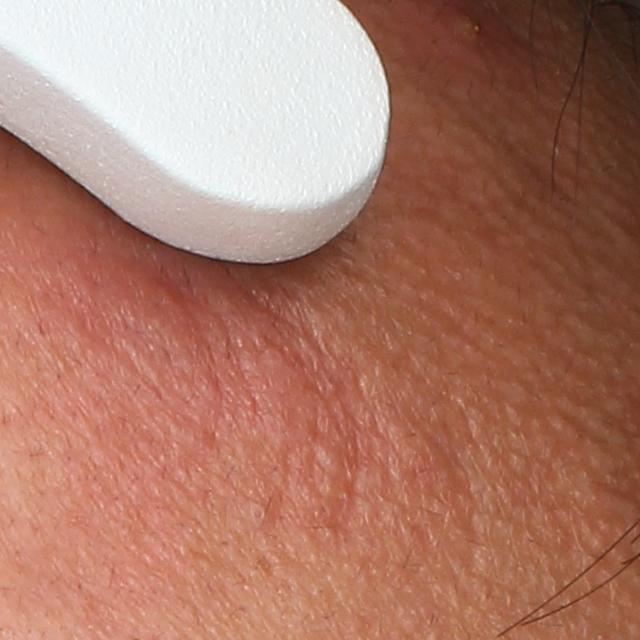comedo: (240, 505, 267, 525)
